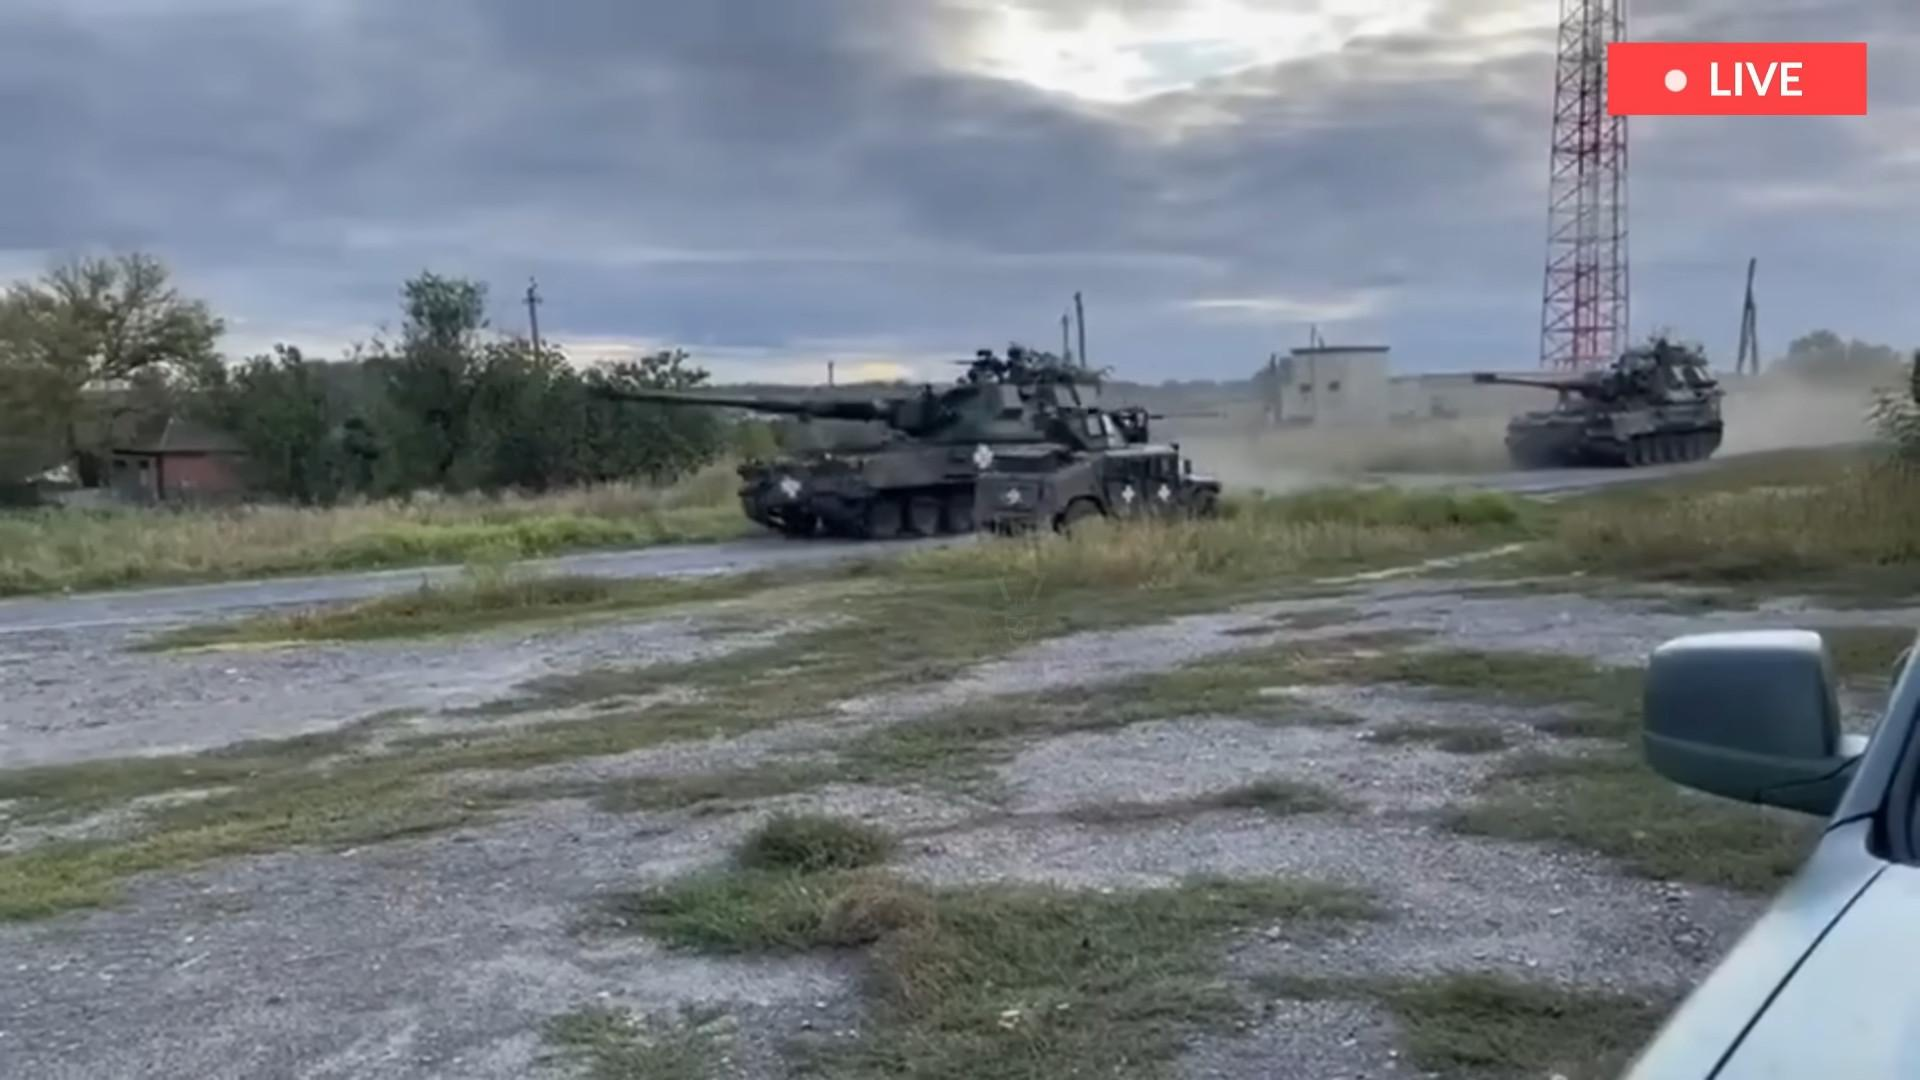tank: (589, 357, 1085, 539), (1472, 338, 1726, 469)
